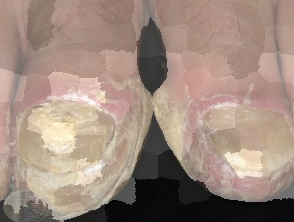Nail_psoriasis: (0, 58, 170, 222), (136, 52, 294, 213)
